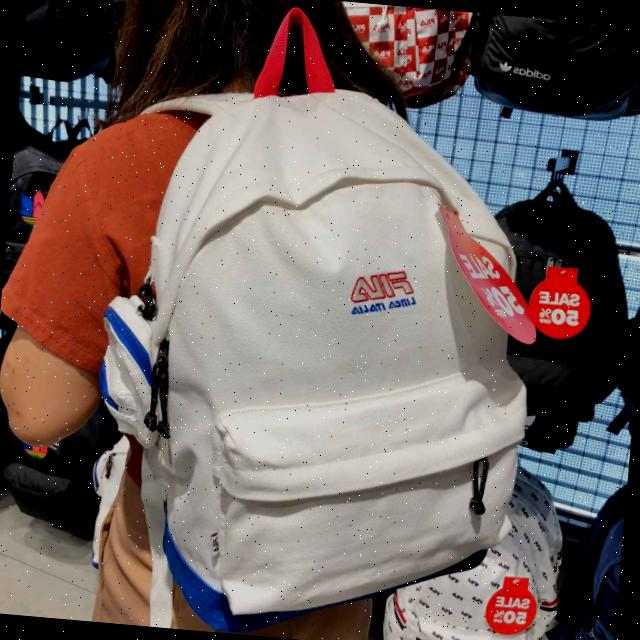Handbag: (115, 64, 570, 640)
